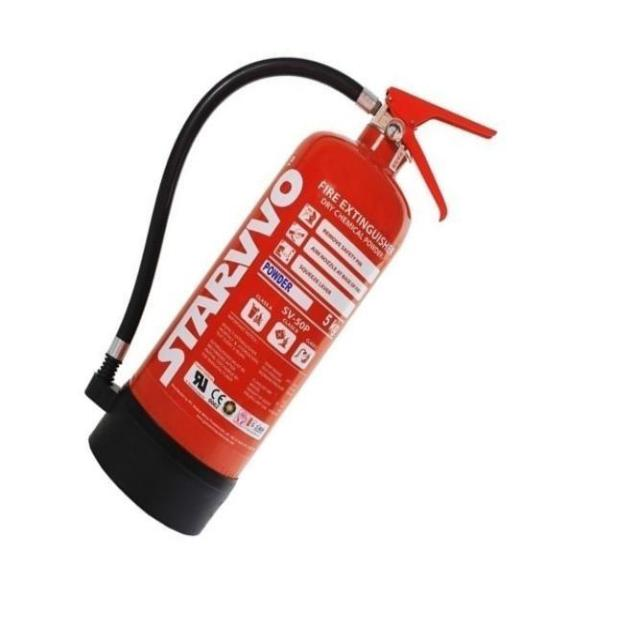fire_extinguisher: (80, 49, 502, 538)
